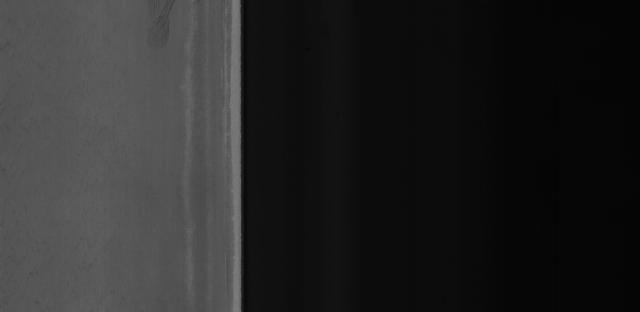water_spot: (144, 2, 191, 66)
